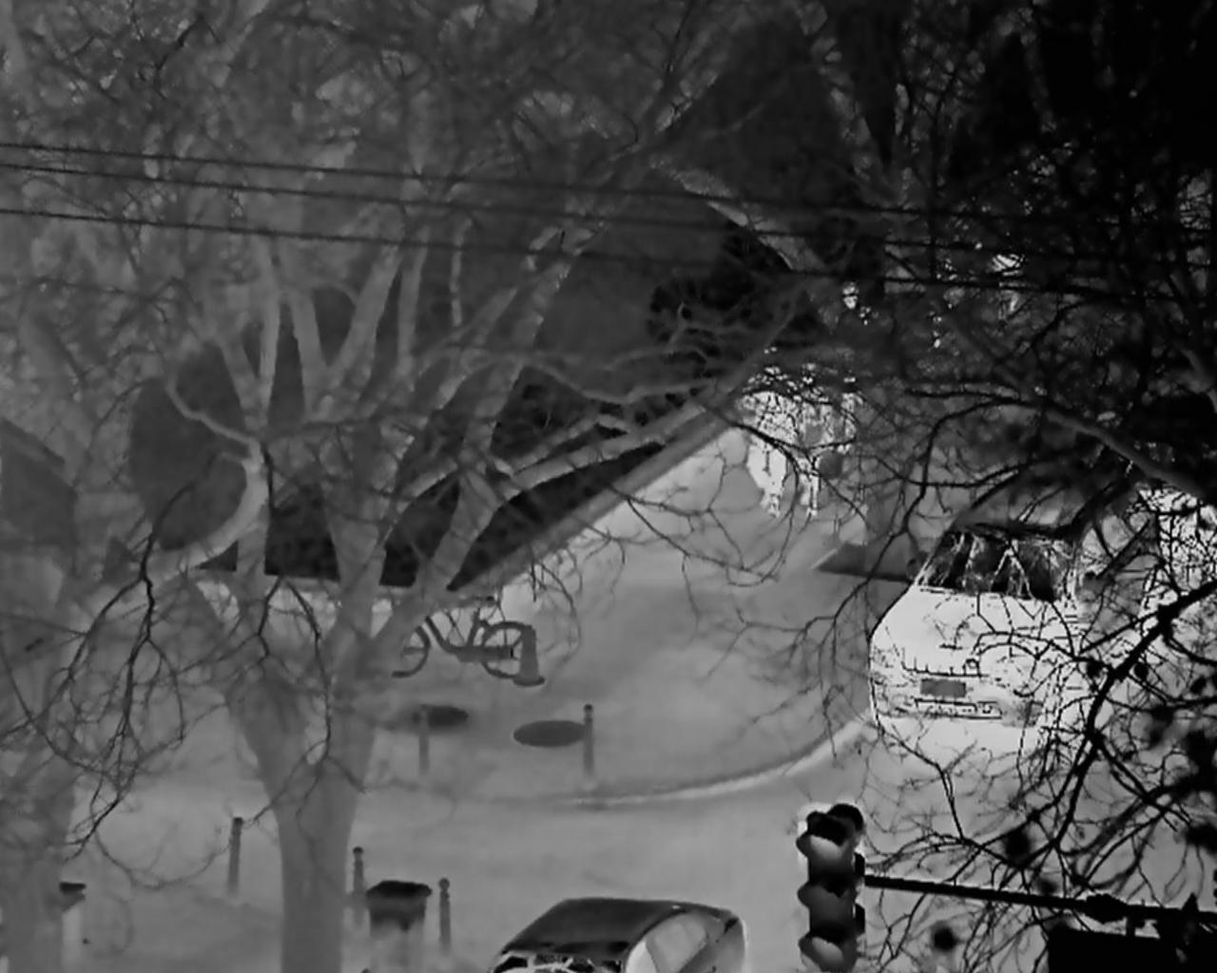person: (746, 367, 794, 523)
